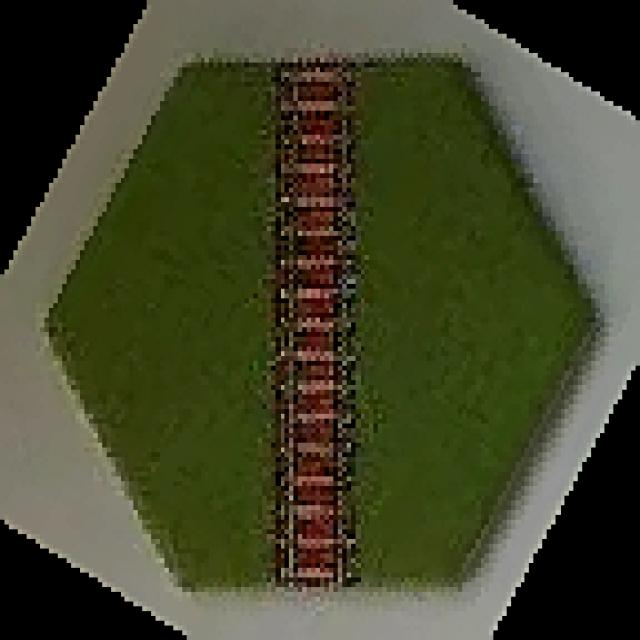3_1: (42, 55, 607, 596)
